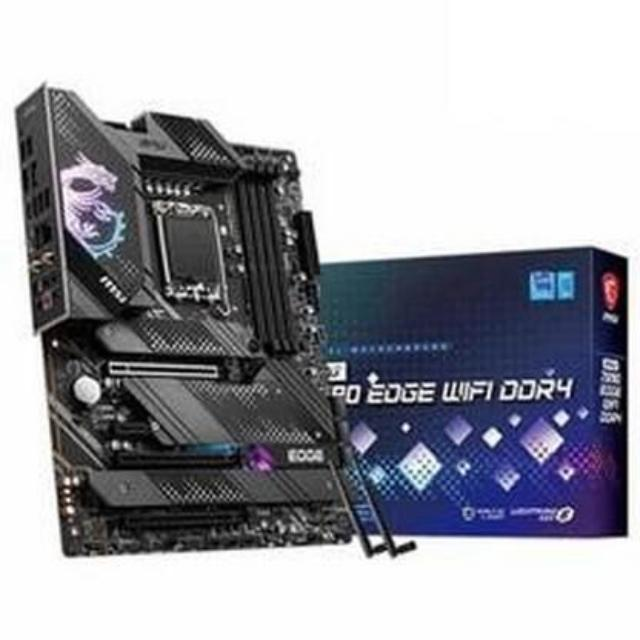Mainboard: (9, 80, 356, 568)
